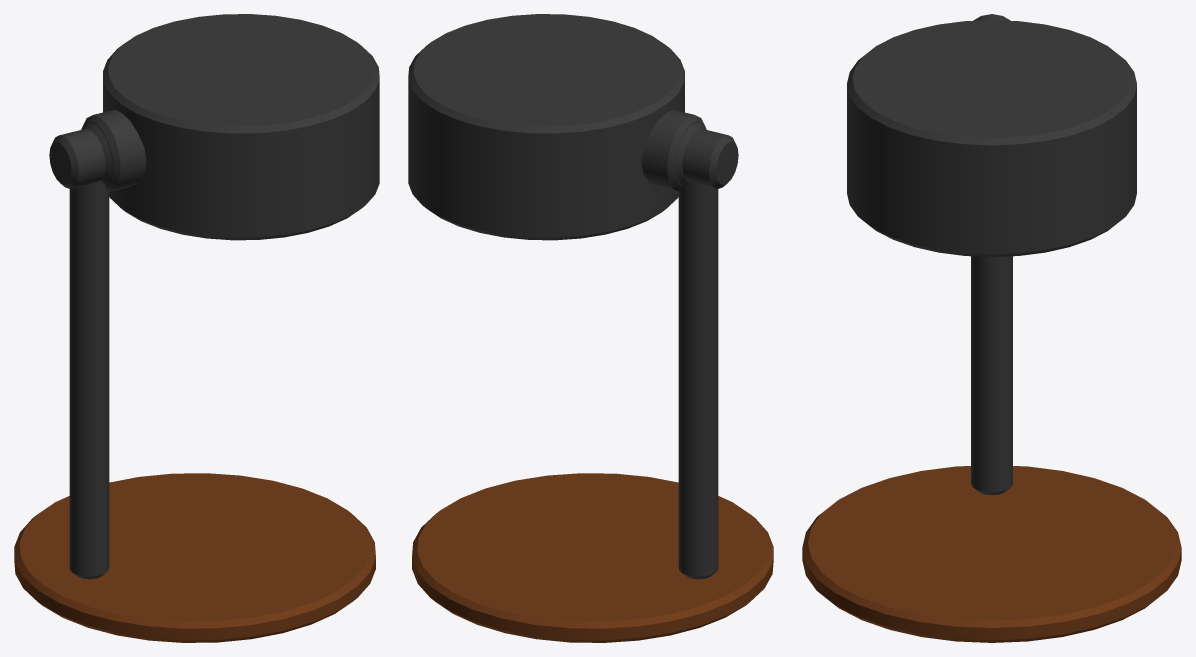
The model's file is Lamp.fbx.
3 renders of one model, left to right at view 1: azimuth 30°, elevation 25°; view 2: azimuth 150°, elevation 25°; view 3: azimuth 270°, elevation 25°, orthographic. The views are drawn at different scales.
Parts seen in each view (by area): view 1: Circle.001; view 2: Circle.001; view 3: Circle.001.
Part boxes in pixels (x1,y1,x2,y2): Circle.001: (14, 14, 379, 642); Circle.001: (408, 14, 773, 642); Circle.001: (802, 14, 1181, 642).
Size of the model in its own units: 20.6 by 29.65 by 20.
